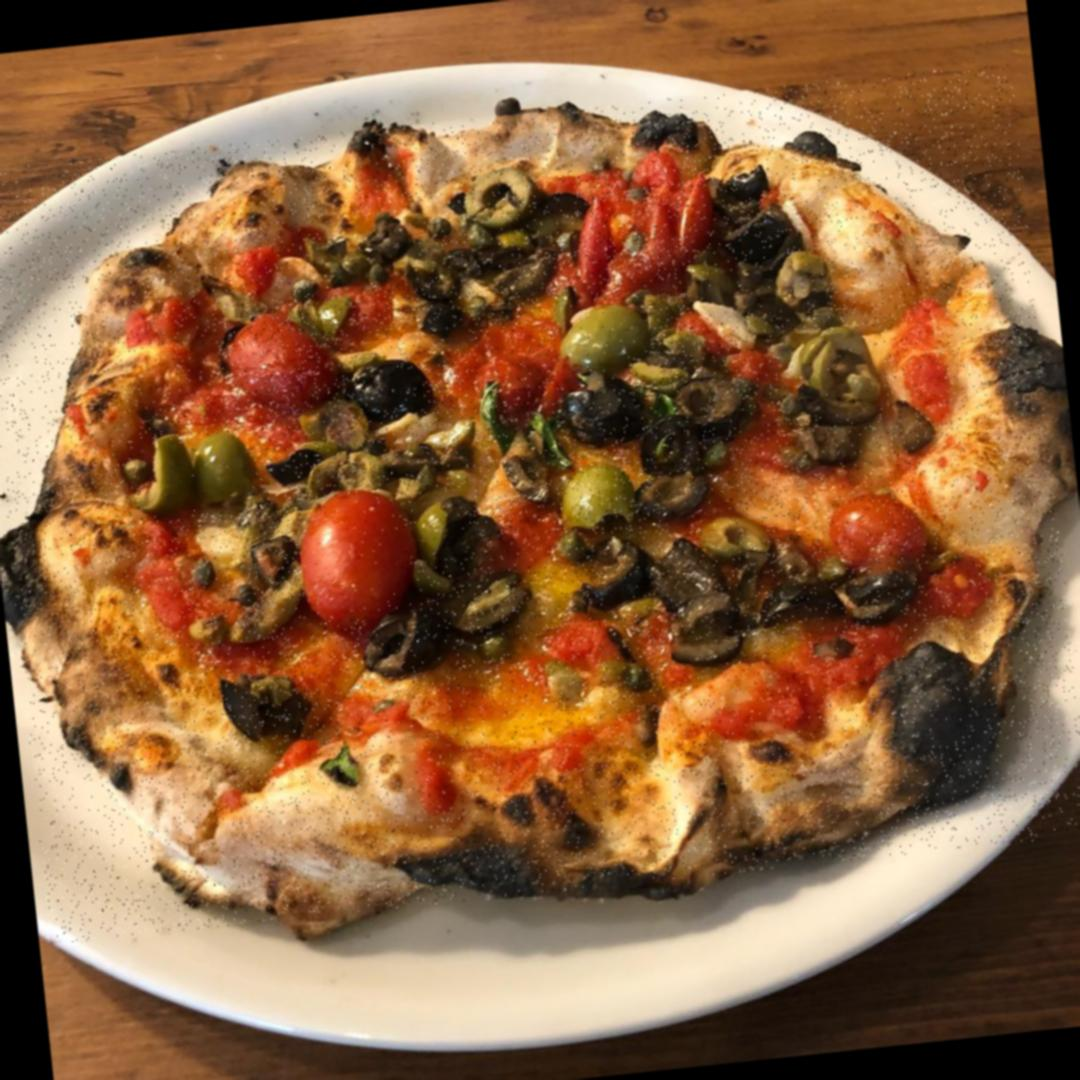Olives: (410, 246, 540, 334), (136, 430, 258, 516), (776, 326, 888, 417), (286, 405, 390, 501), (556, 295, 659, 386), (587, 534, 711, 603), (220, 662, 318, 746), (353, 350, 448, 434), (717, 178, 787, 276), (326, 216, 415, 288), (554, 460, 644, 528), (462, 163, 544, 237), (667, 598, 750, 665), (360, 606, 442, 673), (740, 559, 818, 626), (246, 528, 305, 614), (457, 579, 533, 638), (646, 314, 701, 386), (704, 510, 770, 568), (686, 269, 774, 312), (772, 254, 824, 322), (412, 494, 464, 560), (628, 110, 704, 154), (794, 126, 856, 175)
Pizza: (0, 63, 1080, 945)
Tomatoes: (577, 164, 715, 288), (295, 489, 414, 614), (223, 292, 338, 410), (821, 498, 932, 586)
